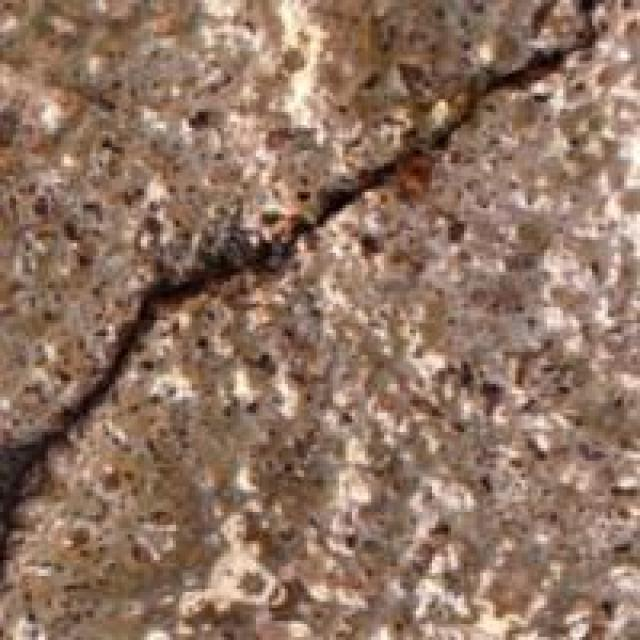crack: (22, 38, 637, 470)
